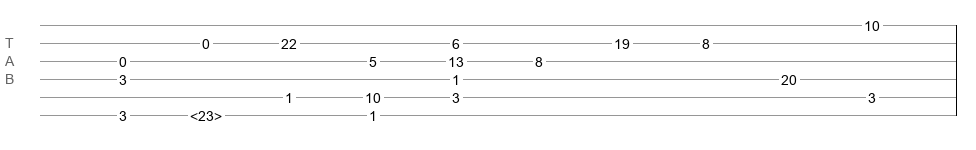0: (119, 54, 127, 64), (202, 36, 210, 46)
1: (285, 90, 293, 100), (369, 108, 377, 118), (452, 72, 460, 82)
10: (365, 90, 381, 100), (864, 18, 880, 28)
13: (448, 54, 464, 64)
19: (614, 36, 630, 46)
20: (781, 72, 797, 82)
22: (281, 36, 297, 46)
3: (119, 108, 127, 118), (119, 72, 127, 82), (452, 90, 460, 100), (868, 90, 876, 100)
5: (369, 54, 377, 64)
6: (452, 36, 460, 46)
8: (535, 54, 543, 64), (702, 36, 710, 46)
harmonic: (190, 108, 222, 118)
